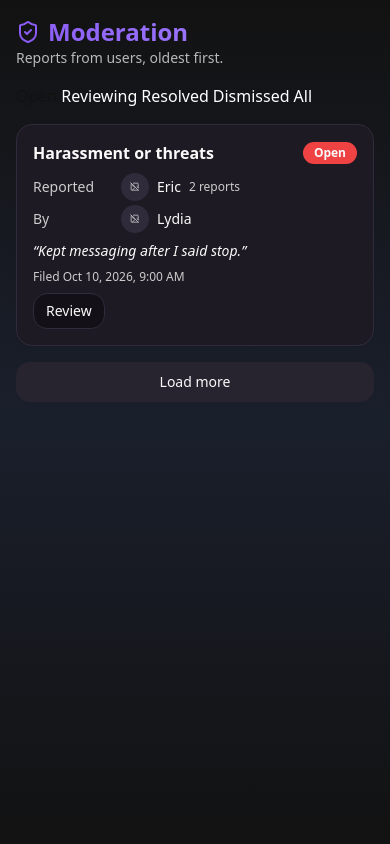
Test: Moderation page › loads more pages
Click the button "Load more" at x=195, y=382, box [16, 362, 374, 402]
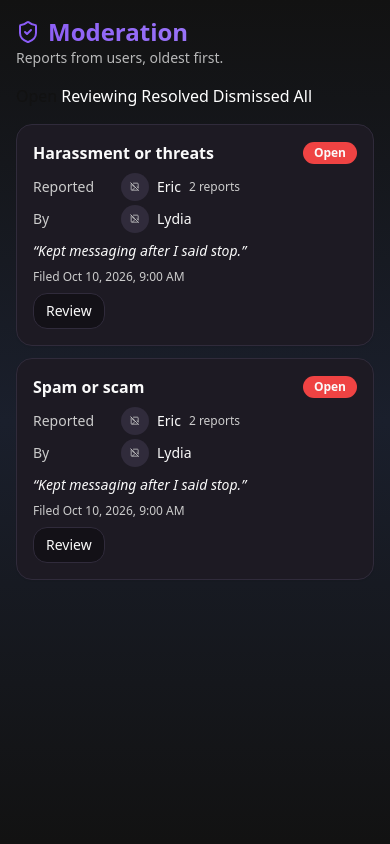
Expected: the heading "Spam or scam" is shown, [33, 375, 144, 399]
Expected: the button "Load more" is gone
